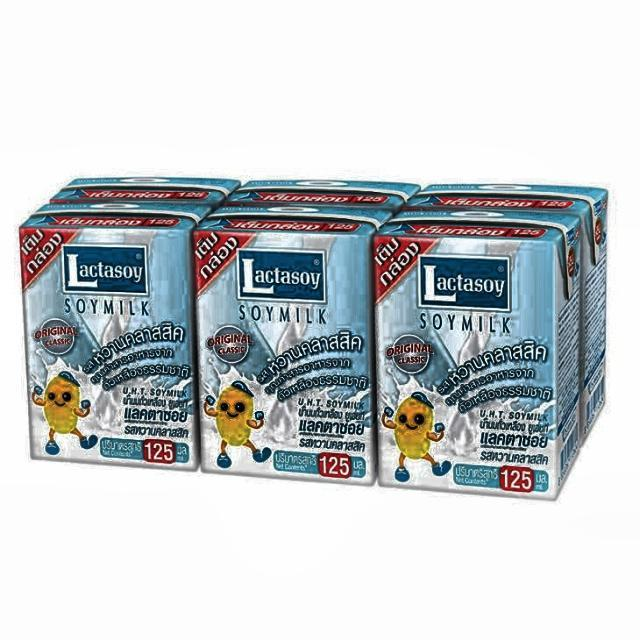cardboard: (372, 182, 608, 500), (191, 178, 418, 487), (18, 175, 238, 470)
